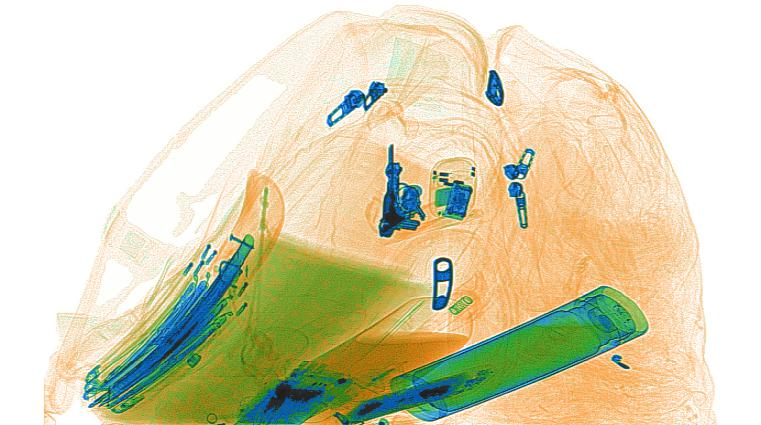plasticBottleWithaNozzle: (268, 264, 496, 419)
